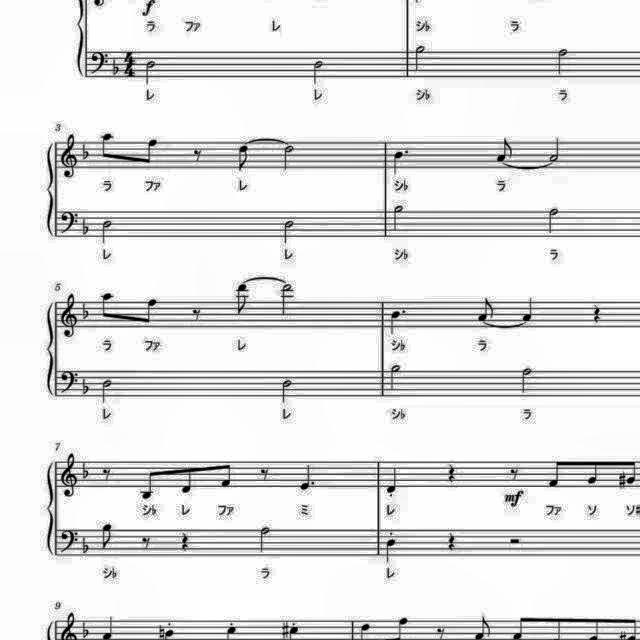Bass-clef: (58, 525, 82, 555), (88, 48, 112, 78), (60, 208, 80, 236), (60, 366, 80, 394)
Bemol: (79, 454, 93, 482), (78, 300, 94, 324), (80, 216, 96, 240), (78, 139, 94, 161), (110, 56, 122, 78), (80, 535, 92, 557), (80, 618, 92, 640), (80, 376, 92, 396)
Eighth-note: (138, 134, 162, 170), (138, 293, 162, 327), (138, 468, 160, 504), (547, 457, 569, 493), (232, 283, 254, 319), (492, 132, 516, 164), (234, 140, 256, 174), (98, 288, 118, 324), (180, 463, 200, 499), (98, 127, 118, 161), (474, 295, 498, 323), (216, 458, 236, 490), (584, 455, 604, 487), (99, 520, 118, 552), (623, 455, 640, 488), (639, 455, 640, 488)
Eighth-rest: (187, 143, 206, 165), (187, 304, 205, 324), (100, 462, 116, 482), (256, 463, 272, 483), (138, 532, 154, 552), (432, 624, 448, 640)
Half-note: (278, 281, 298, 319), (542, 202, 562, 238), (552, 45, 572, 79), (388, 200, 408, 233), (309, 56, 329, 88), (517, 364, 537, 396), (410, 44, 430, 76), (384, 361, 402, 395), (278, 142, 298, 172), (277, 375, 297, 405), (280, 216, 298, 248), (255, 522, 273, 554), (99, 215, 118, 245), (547, 134, 567, 162), (99, 376, 117, 406), (142, 57, 158, 87)
Half-rest: (504, 532, 524, 548)
Quarter-dot: (294, 462, 318, 494), (388, 146, 412, 178), (386, 306, 410, 336)
Quarter-note: (382, 466, 402, 498), (520, 296, 540, 324), (383, 536, 401, 564)
Quarter-rest: (175, 527, 192, 553), (444, 459, 460, 485), (590, 300, 606, 326), (442, 531, 458, 557), (505, 462, 521, 482)
Treble-clef: (58, 451, 82, 502), (58, 293, 82, 343), (58, 132, 82, 180)
